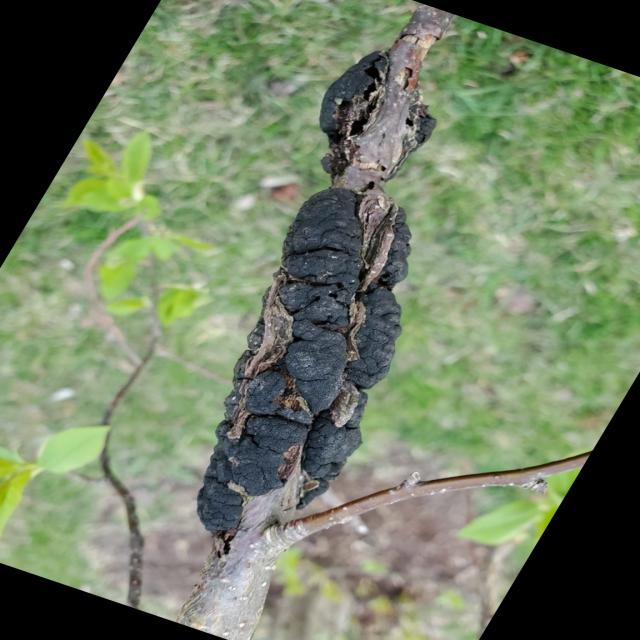Black_knot: (194, 45, 439, 535)
